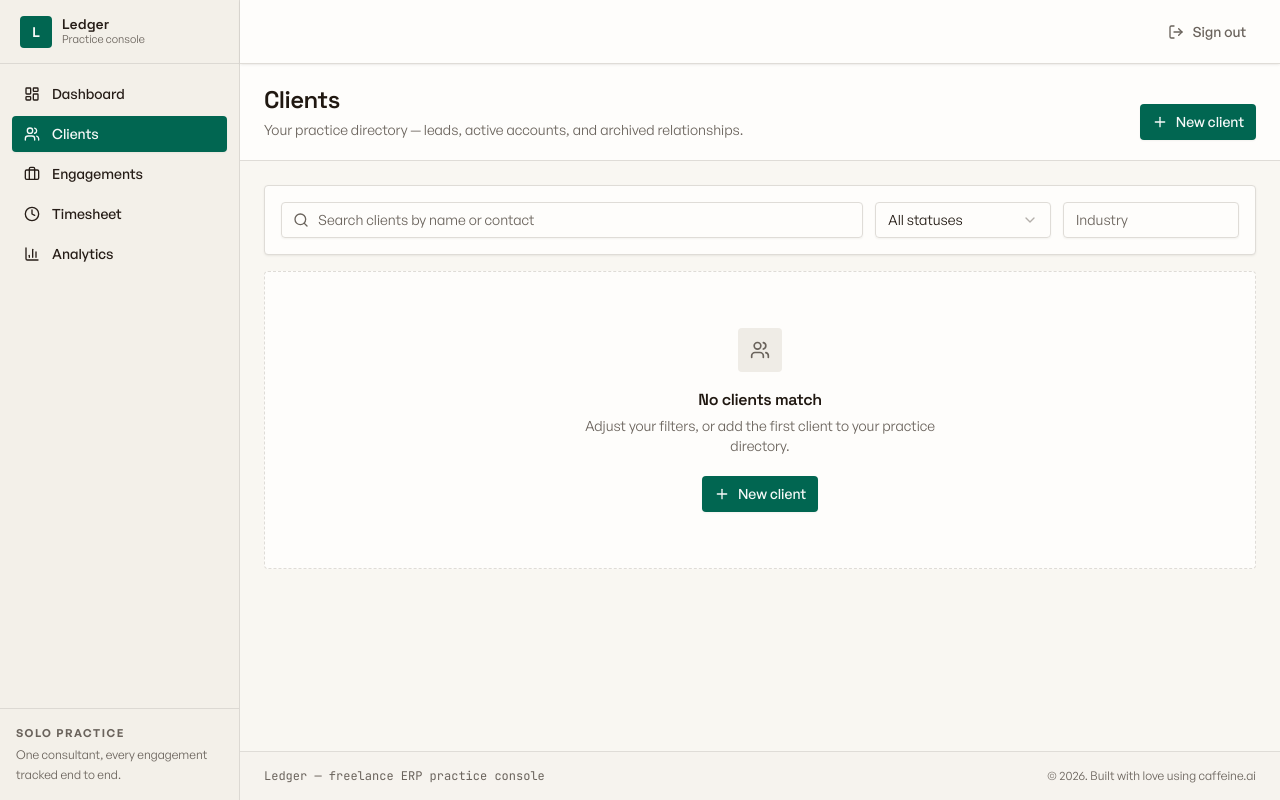
ClientsPage › disables submission until required fields are filled
Expected: the heading "No clients match" is shown, [698,388,822,412]
Click the button with test id "clients.open_modal_button" at {"x": 1198, "y": 122}, box [1140,104,1256,140]
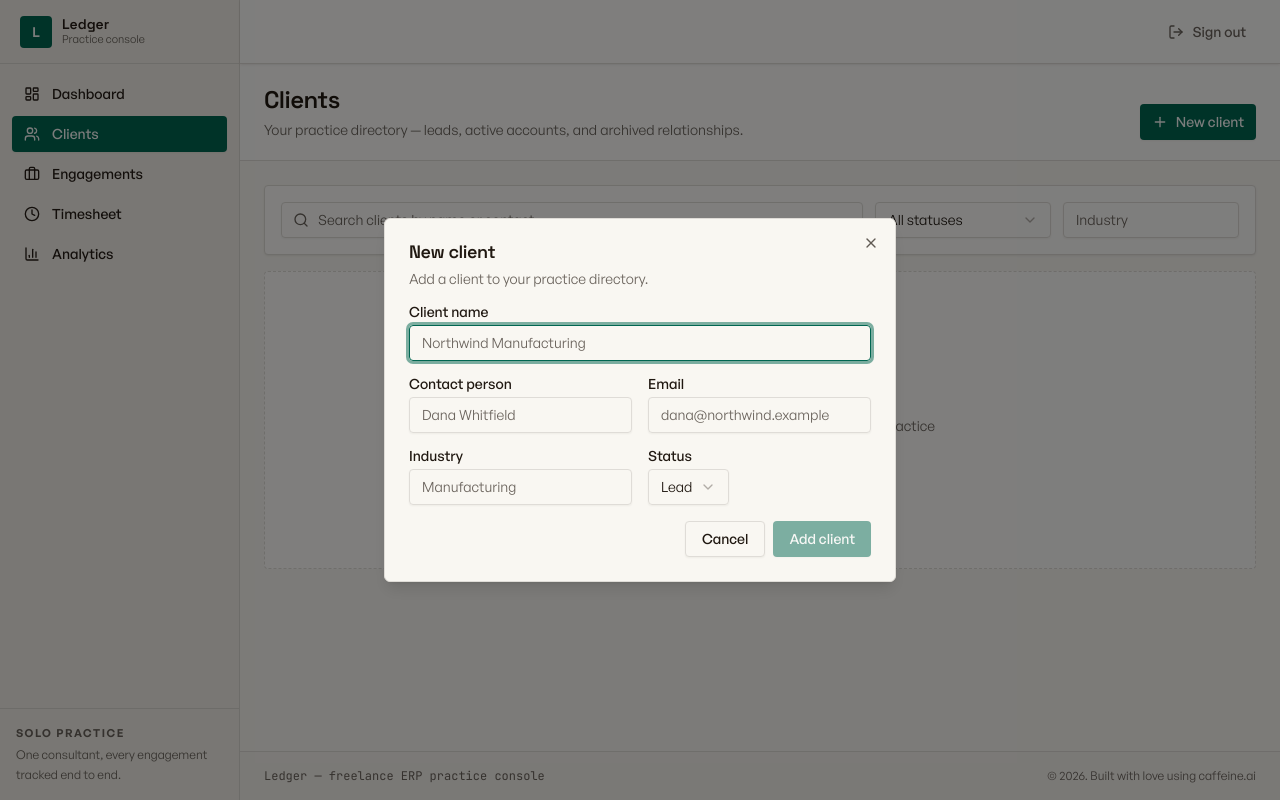
Expected: the button "Add client" is disabled, [773,521,871,557]
Type "Contoso Ltd" into the field labelled "Client name" at {"x": 640, "y": 343}, box [409,325,871,361]
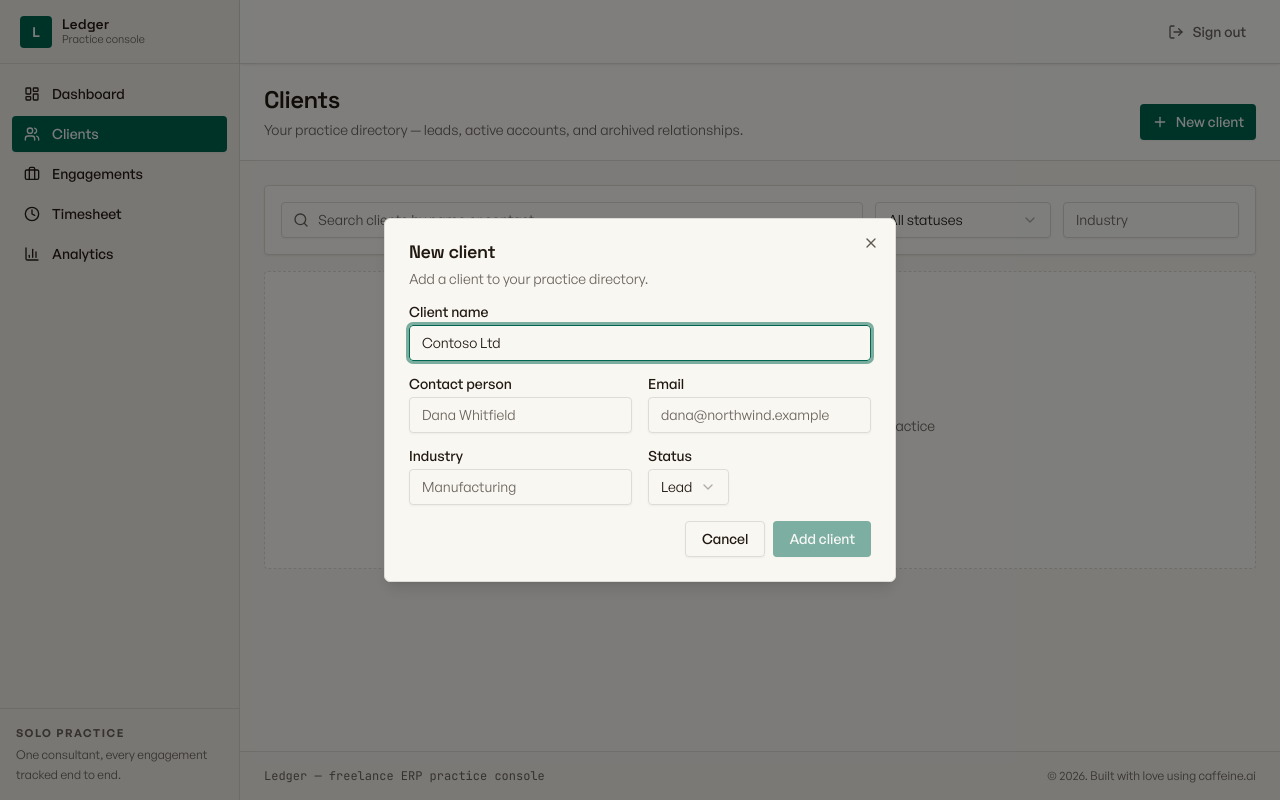
Expected: the button "Add client" is disabled, [773,521,871,557]
Type "ops@contoso.example" into the field labelled "Email" at {"x": 760, "y": 415}, box [648,397,871,433]
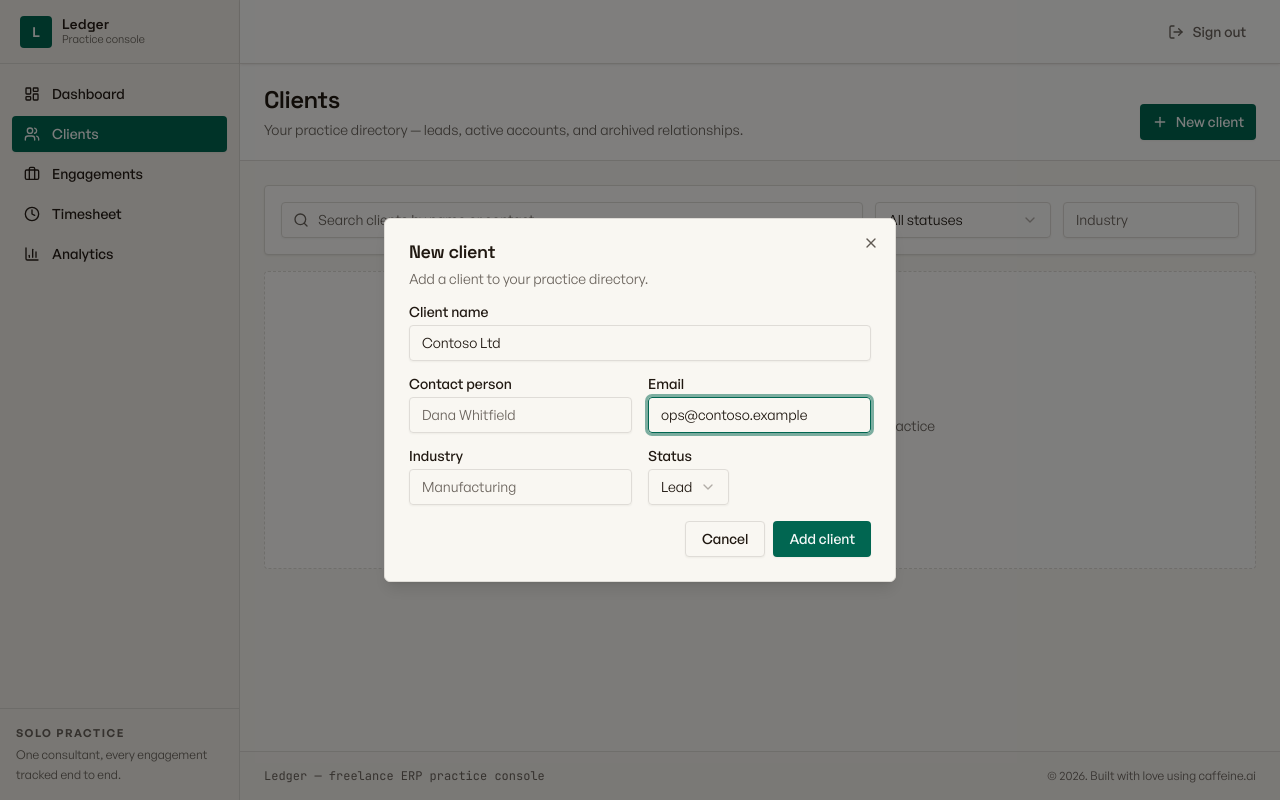
Expected: the button "Add client" is enabled, [773,521,871,557]
